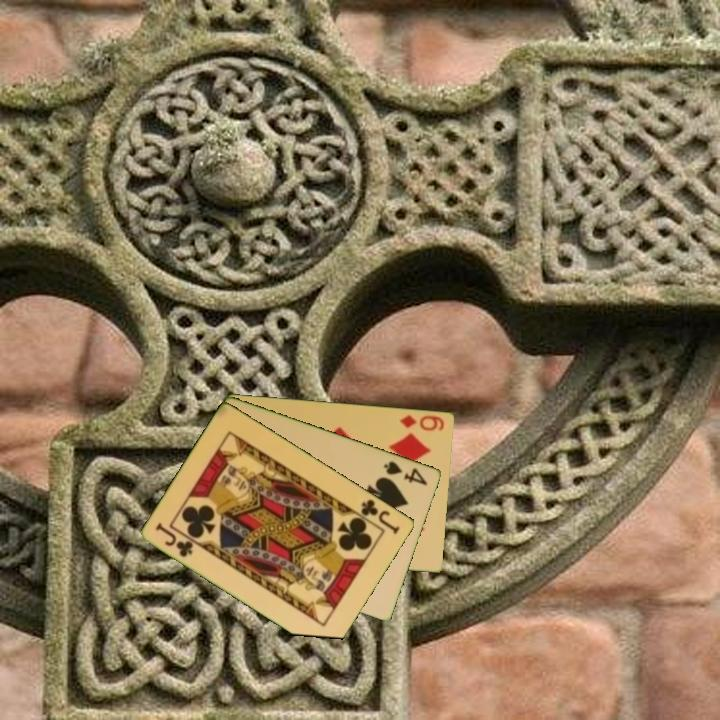4s: (380, 457, 431, 488)
6d: (396, 411, 447, 433)
Jc: (357, 495, 403, 537), (152, 519, 197, 560)
